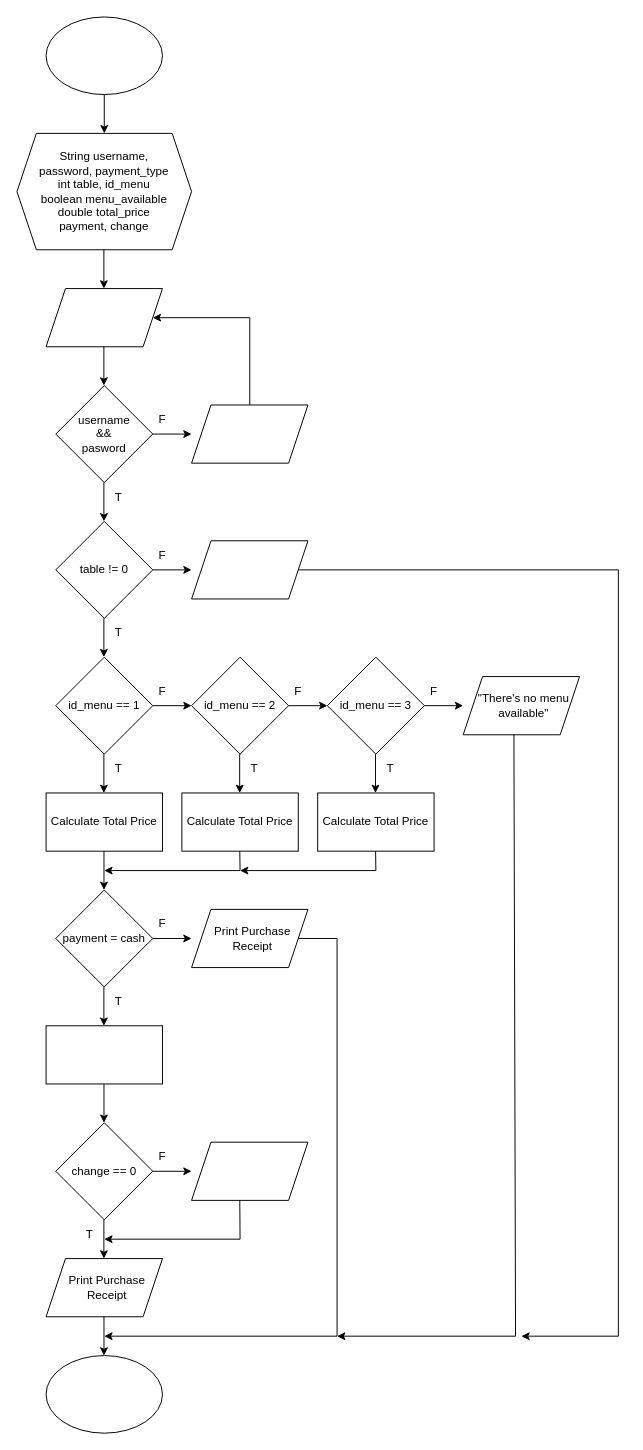
Some shapes in this 643 by 1450 pixel diagram are drawn without their labels. The centre of each missing label's shape, as x and y in pixels:
"There's no table available": the point at 249,569
"Wrong username or password": the point at 249,433
change = payment - total_price: the point at 103,1054
End: the point at 103,1394
Input username Input password: the point at 103,317
Return change: the point at 249,1170
Start: the point at 103,55
